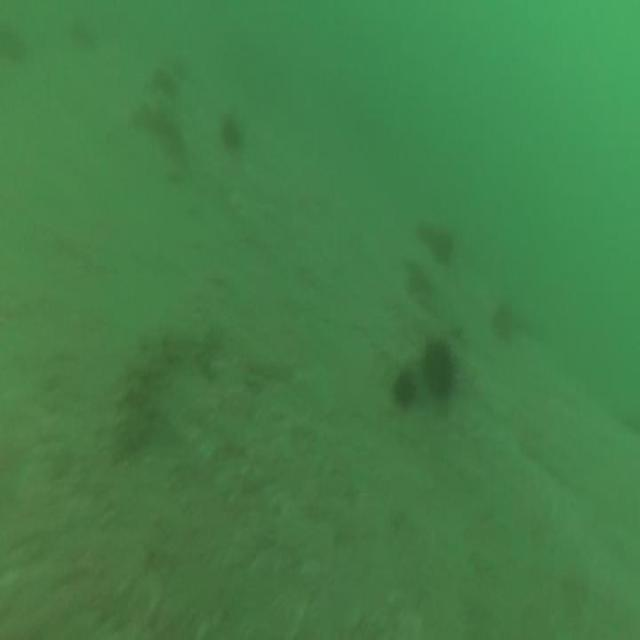echinus: (420, 333, 457, 403), (66, 4, 100, 54), (391, 360, 420, 414), (147, 59, 180, 104), (0, 19, 30, 66), (491, 296, 518, 346), (218, 106, 244, 156), (426, 221, 454, 267)
holothurian: (110, 332, 164, 463)
